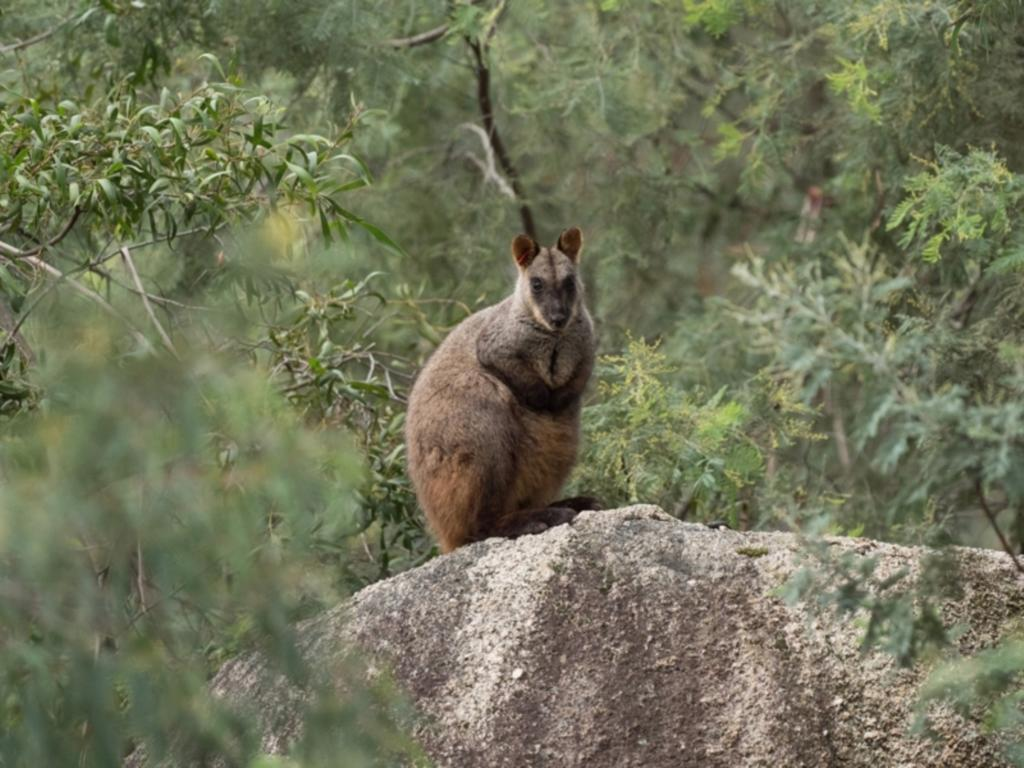Brush-tailed rock-wallaby: (404, 229, 607, 561)
